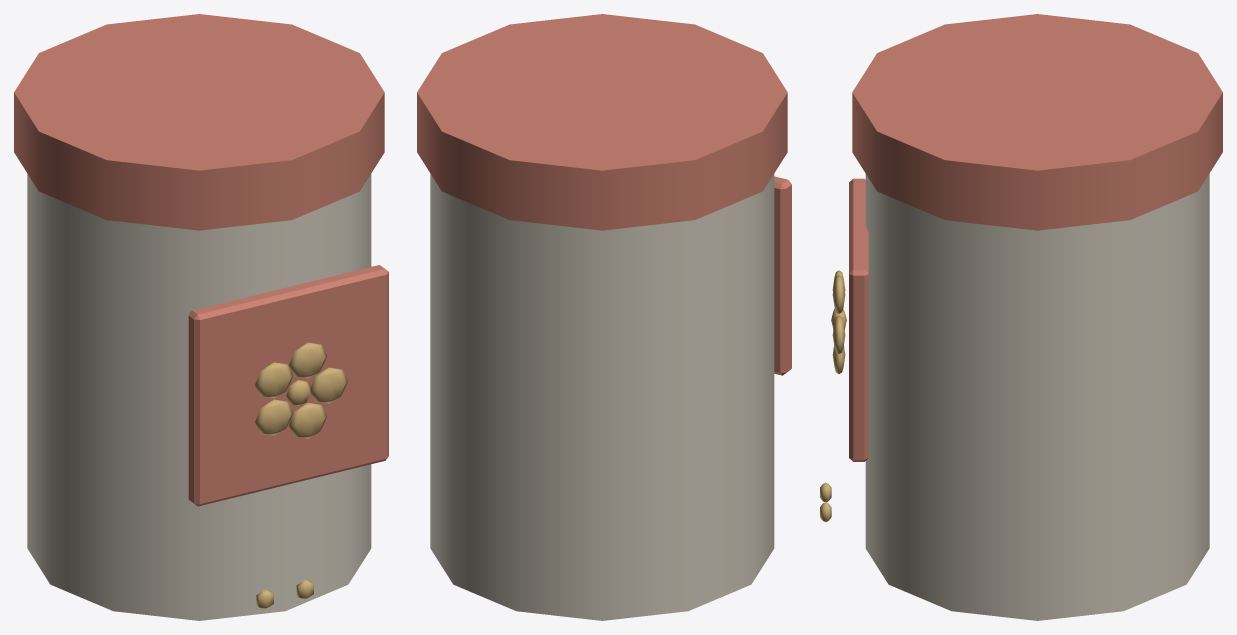
3 views of the same model, side by side, from view 1: azimuth 30°, elevation 25°; view 2: azimuth 150°, elevation 25°; view 3: azimuth 270°, elevation 25° (orthographic).
Visible parts, largest first — view 1: g_s01; view 2: g_s01; view 3: g_s01.
Part boxes in pixels (bbox=[...]): g_s01: bbox=[14, 14, 388, 620]; g_s01: bbox=[417, 14, 791, 620]; g_s01: bbox=[820, 14, 1222, 620].
Size of the model in its own units: 0.28 by 0.38 by 0.3043.
